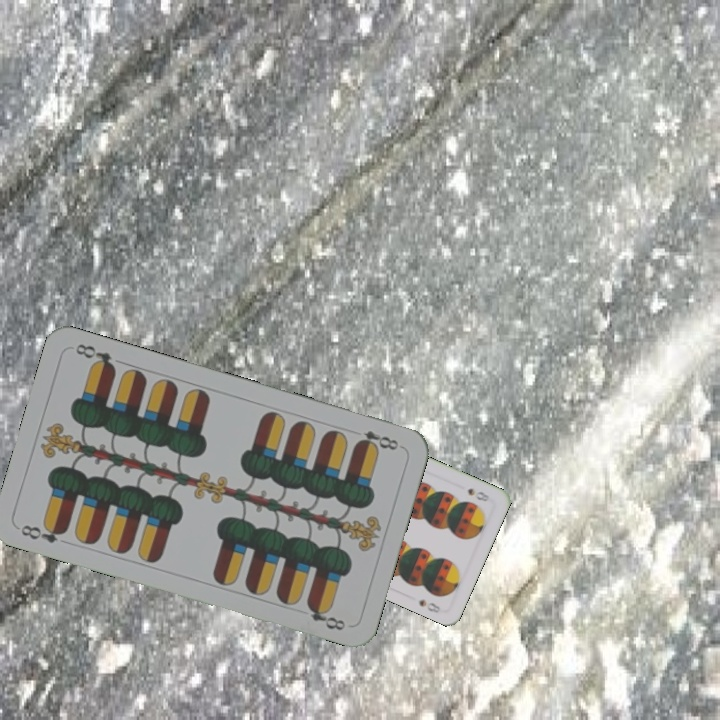E8: (16, 519, 70, 546), (352, 426, 404, 453)
S8: (463, 484, 492, 504)
